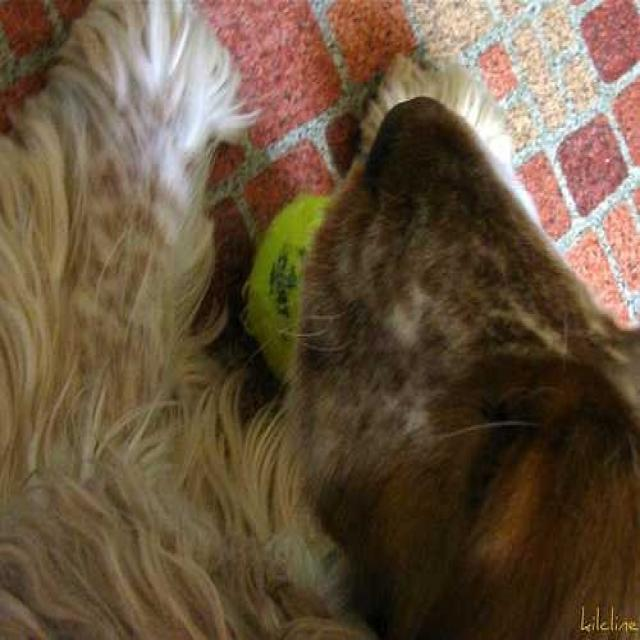Tennis_Ball: (247, 196, 329, 376)
